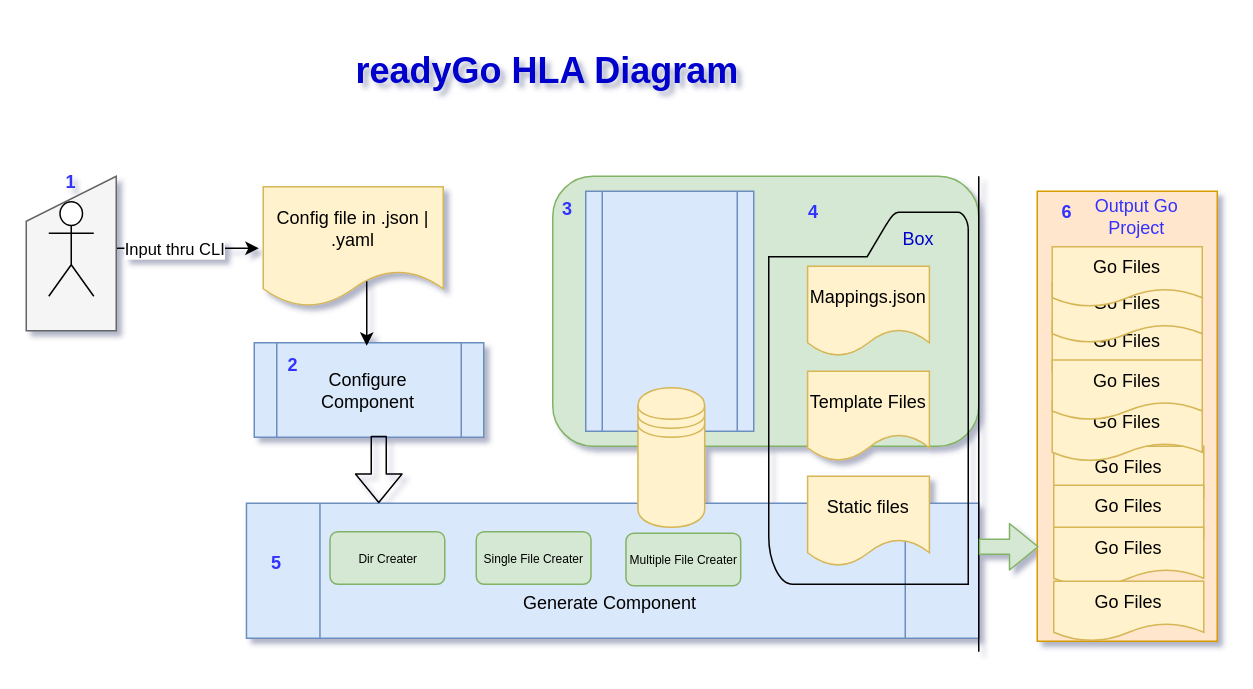
Image size: 1253x689. Some labels were removed from this diagram. The centre of each missing label's shape, as x and y in pixels:
In Mem Storage: point 670,456
Mappings Component: point 669,310
User: point 70,248
